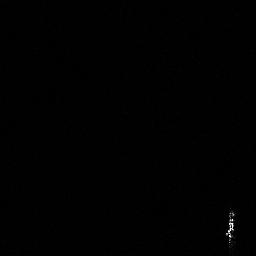ship: (223, 207, 241, 250)
